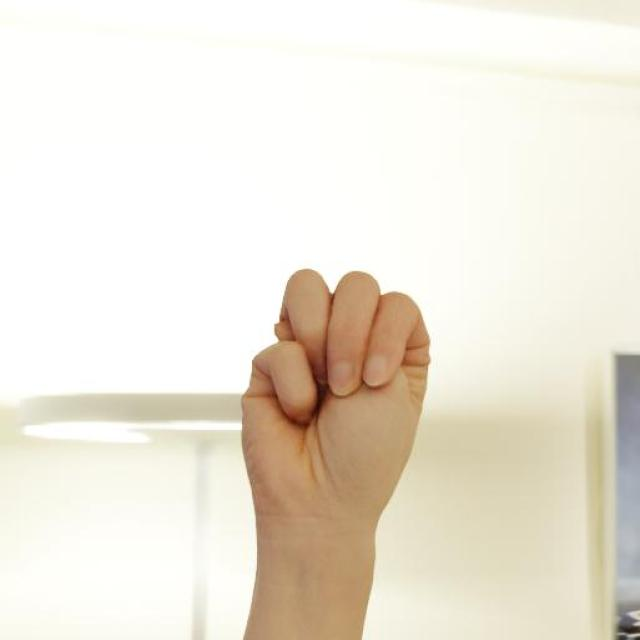M: (236, 264, 434, 527)
